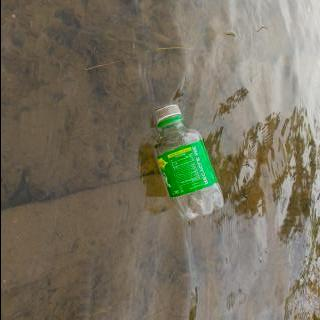bottle: (150, 104, 224, 220)
